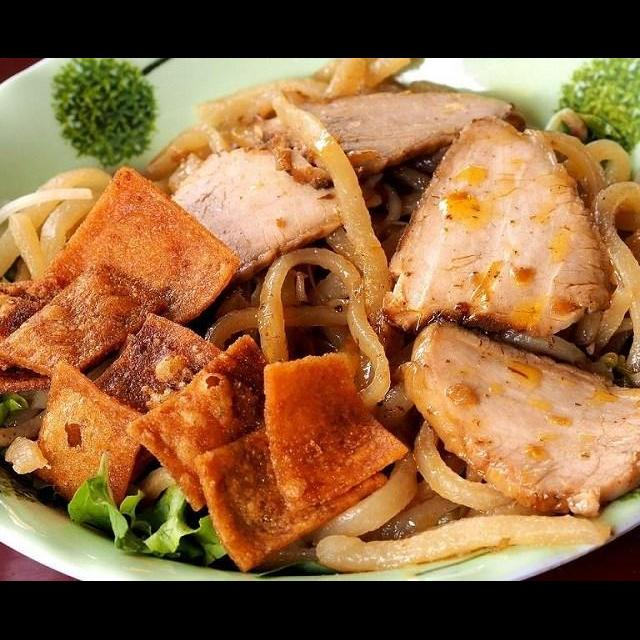banh da: (20, 160, 244, 336), (190, 418, 395, 578), (119, 330, 291, 516), (255, 349, 411, 516), (0, 259, 174, 388), (28, 356, 149, 518), (82, 311, 234, 418), (0, 272, 94, 399)
mi: (285, 417, 615, 580), (197, 242, 434, 430), (137, 60, 422, 196), (538, 120, 640, 401), (0, 162, 116, 318)
thit heo: (372, 110, 615, 343), (390, 312, 640, 524), (156, 126, 384, 286), (233, 70, 521, 196)
